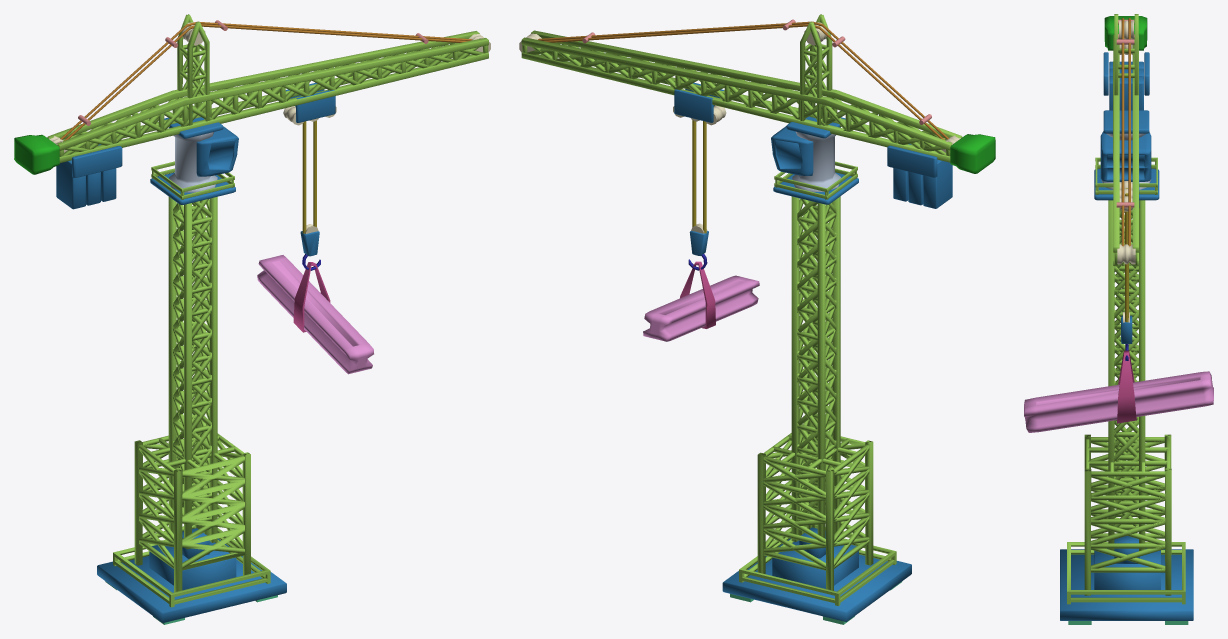
The model's file is crane.fbx.
3 renders of one model, left to right at view 1: azimuth 30°, elevation 25°; view 2: azimuth 150°, elevation 25°; view 3: azimuth 270°, elevation 25°, orthographic. The views are drawn at different scales.
Visible parts, largest first — view 1: crane; view 2: crane; view 3: crane.
Part boxes in pixels (x1,y1,x2,y2): crane: [14, 14, 490, 624]; crane: [519, 14, 995, 624]; crane: [1024, 14, 1213, 624].
Size of the model in its own units: 865 by 1021 by 302.
